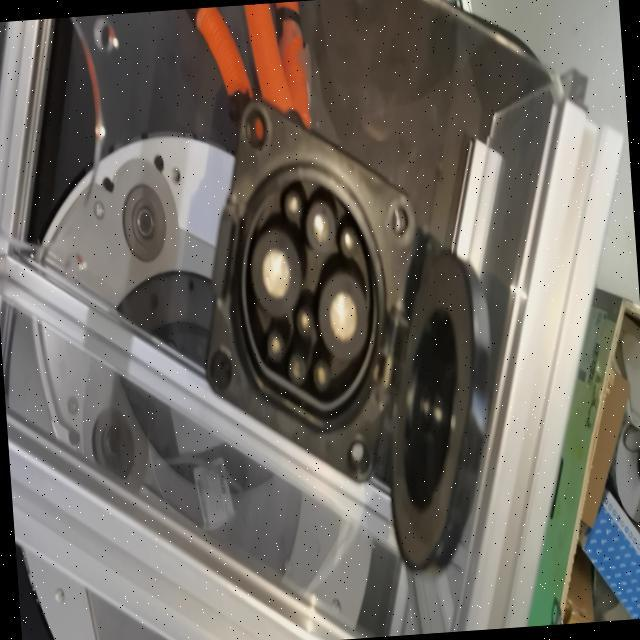GB-T: (220, 156, 408, 430)
